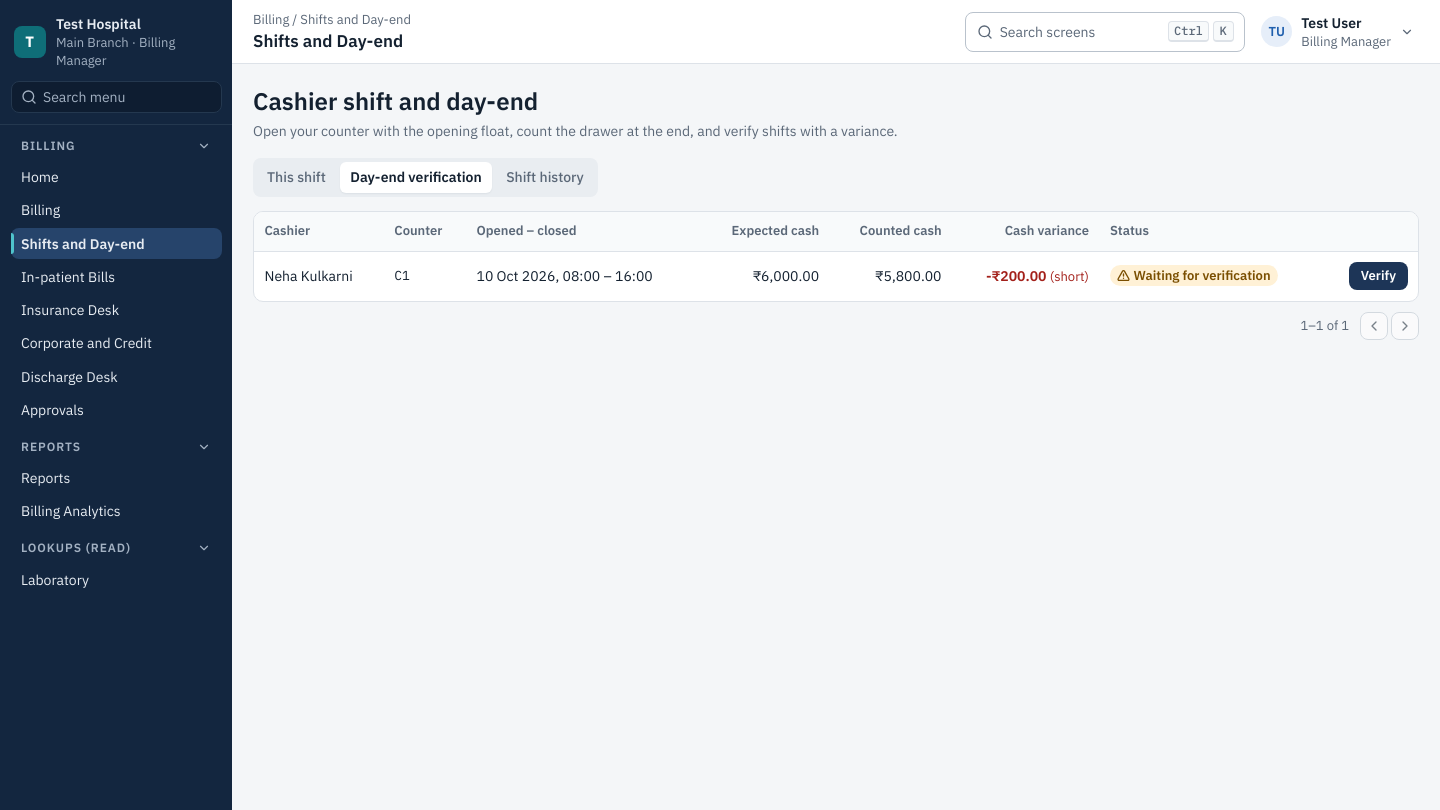
Test case: Cashier shift › lets the Billing Manager verify a counted shift
Expected: the row "Neha Kulkarni" shows "Waiting for verification", [1133, 267, 1270, 284]
Click the button "Verify" at (1378, 276), box [1349, 262, 1408, 290]
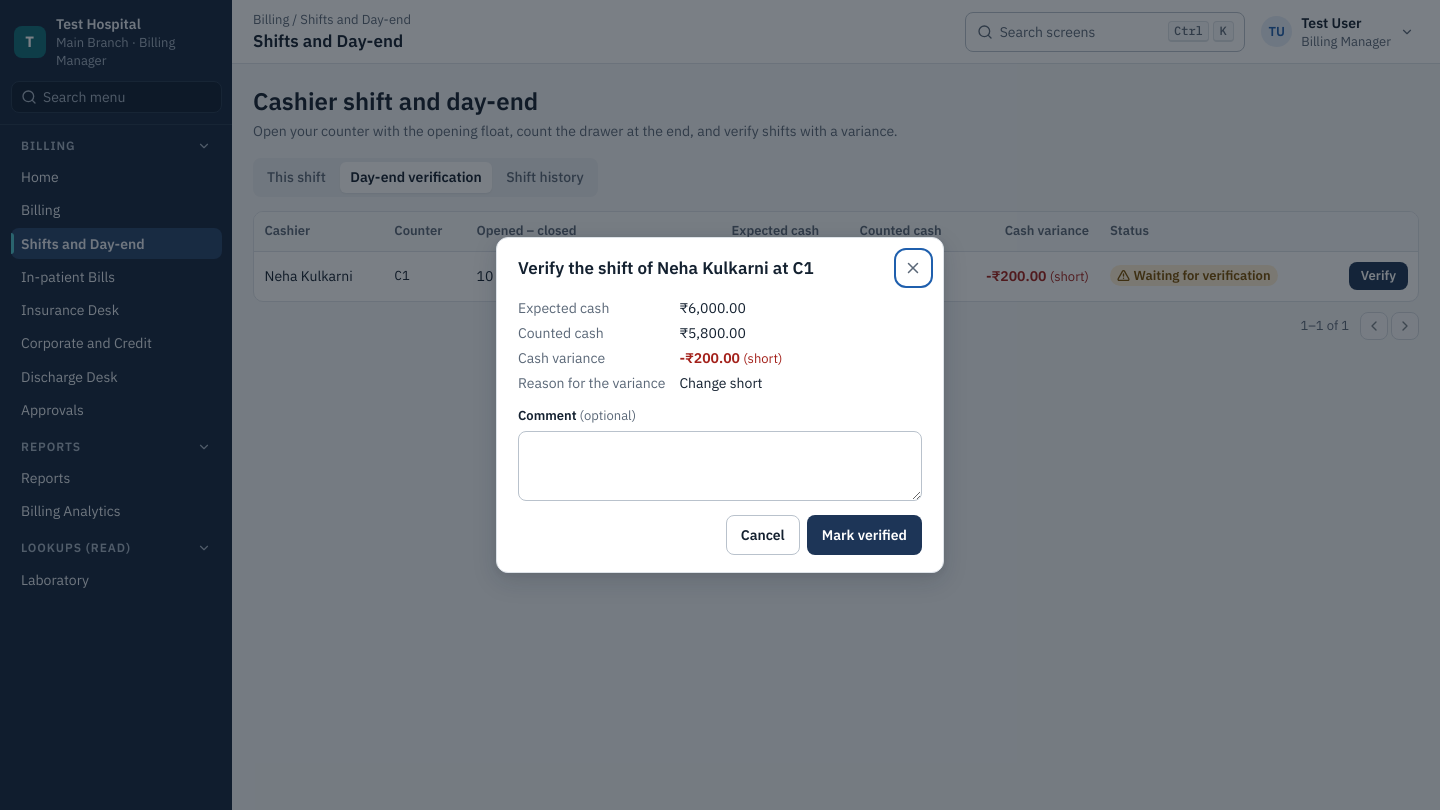
Type "Checked register" into the text box labelled "Comment (optional)" at (720, 466), box [518, 430, 922, 500]
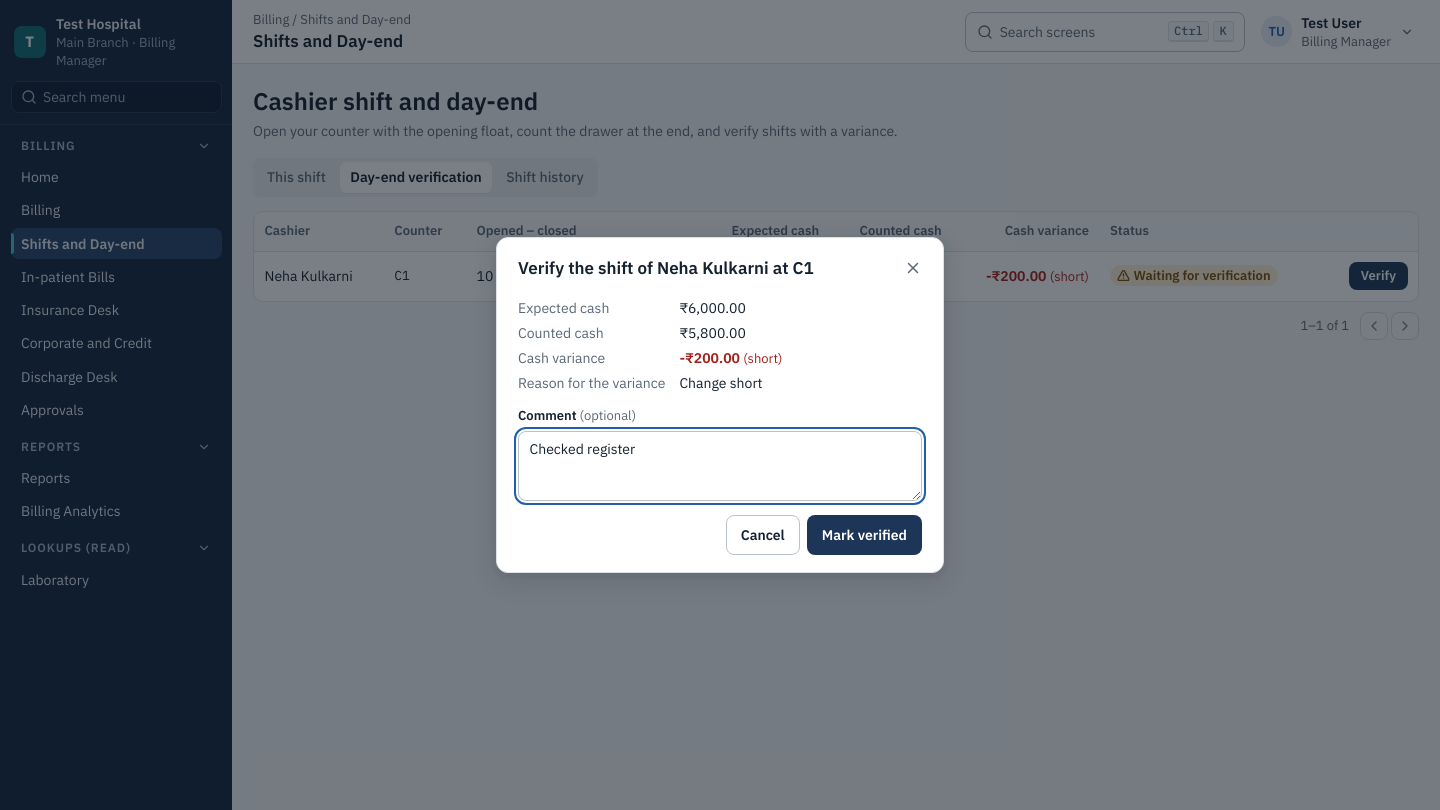
Click the button "Mark verified" at (864, 534), box [807, 514, 922, 554]
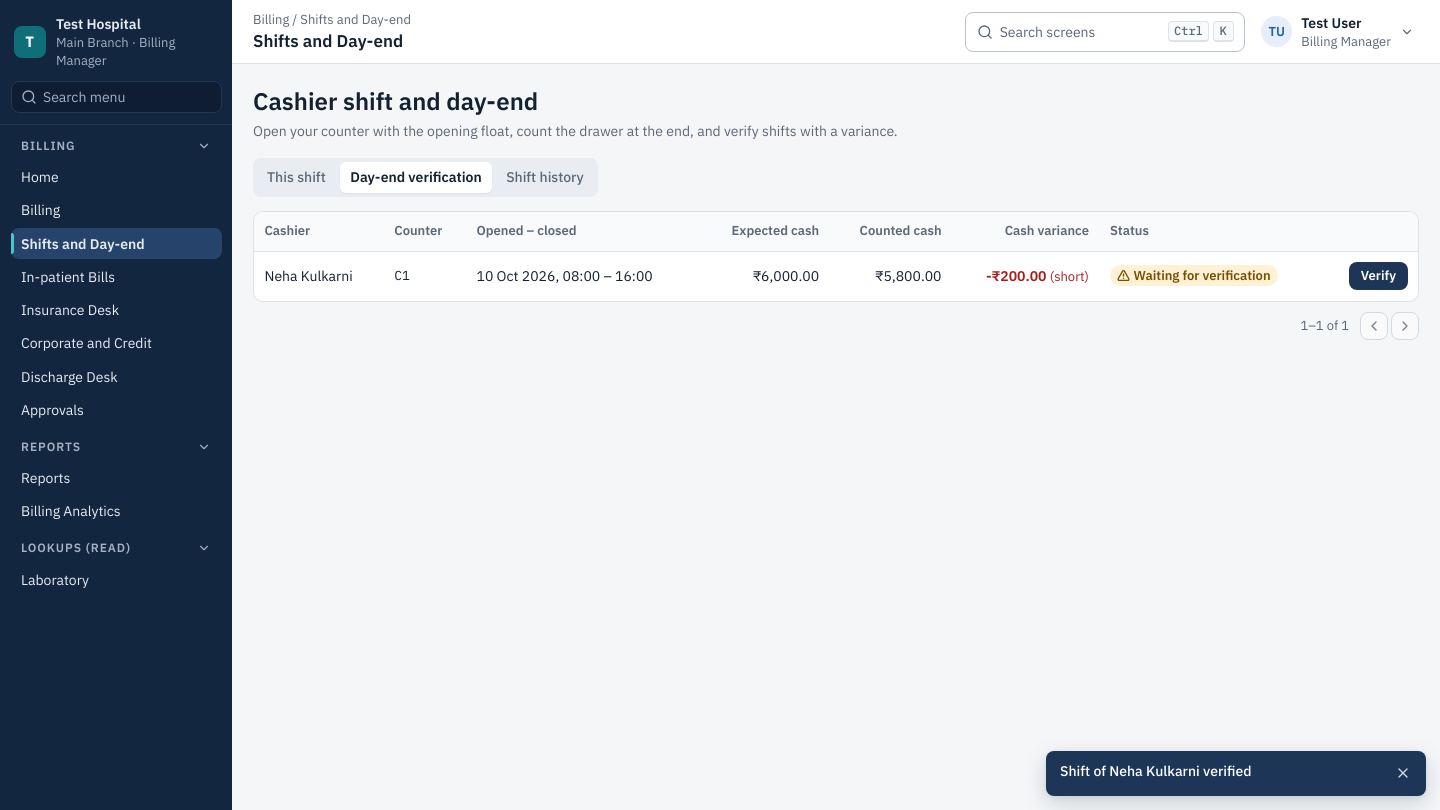
Now the text "Shift of Neha Kulkarni verified" is shown, box [1060, 762, 1252, 780]
